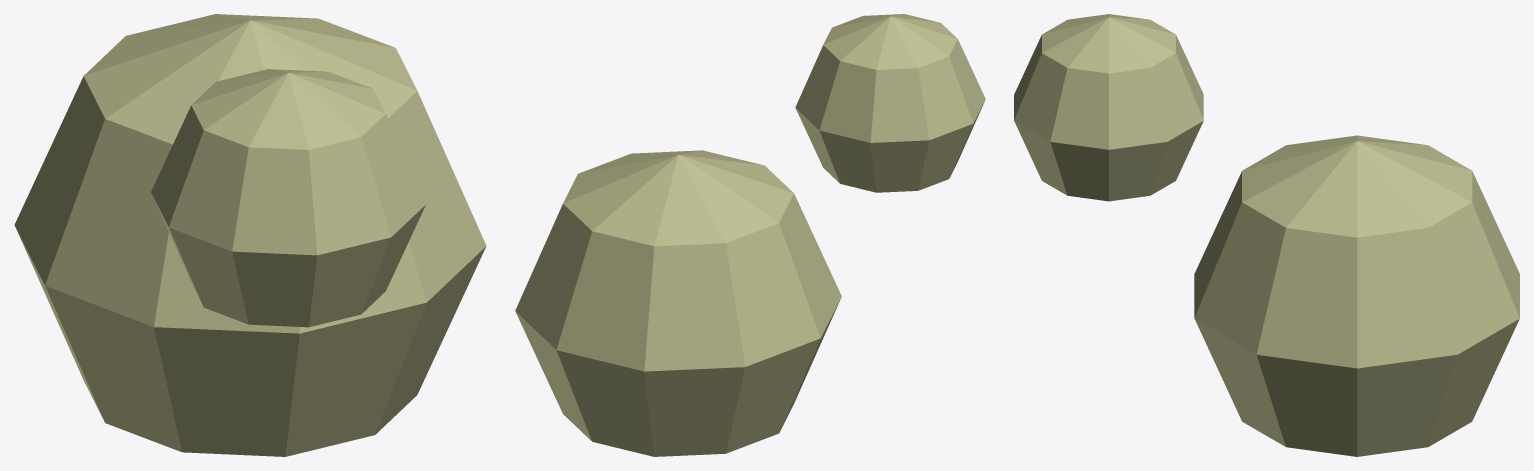
Rendered from economy-building 1.fbx.
3 views of the same model, side by side, from view 1: azimuth 30°, elevation 25°; view 2: azimuth 150°, elevation 25°; view 3: azimuth 270°, elevation 25° (orthographic). The views are drawn at different scales.
Parts seen in each view (by area): view 1: Sphere; view 2: Sphere; view 3: Sphere.
Part boxes in pixels (left/top/right/bottom): Sphere: left=14, top=14, right=486, bottom=456; Sphere: left=515, top=14, right=985, bottom=456; Sphere: left=1014, top=14, right=1519, bottom=456.
Size of the model in its own units: 2.24 by 2.49 by 2.96.
